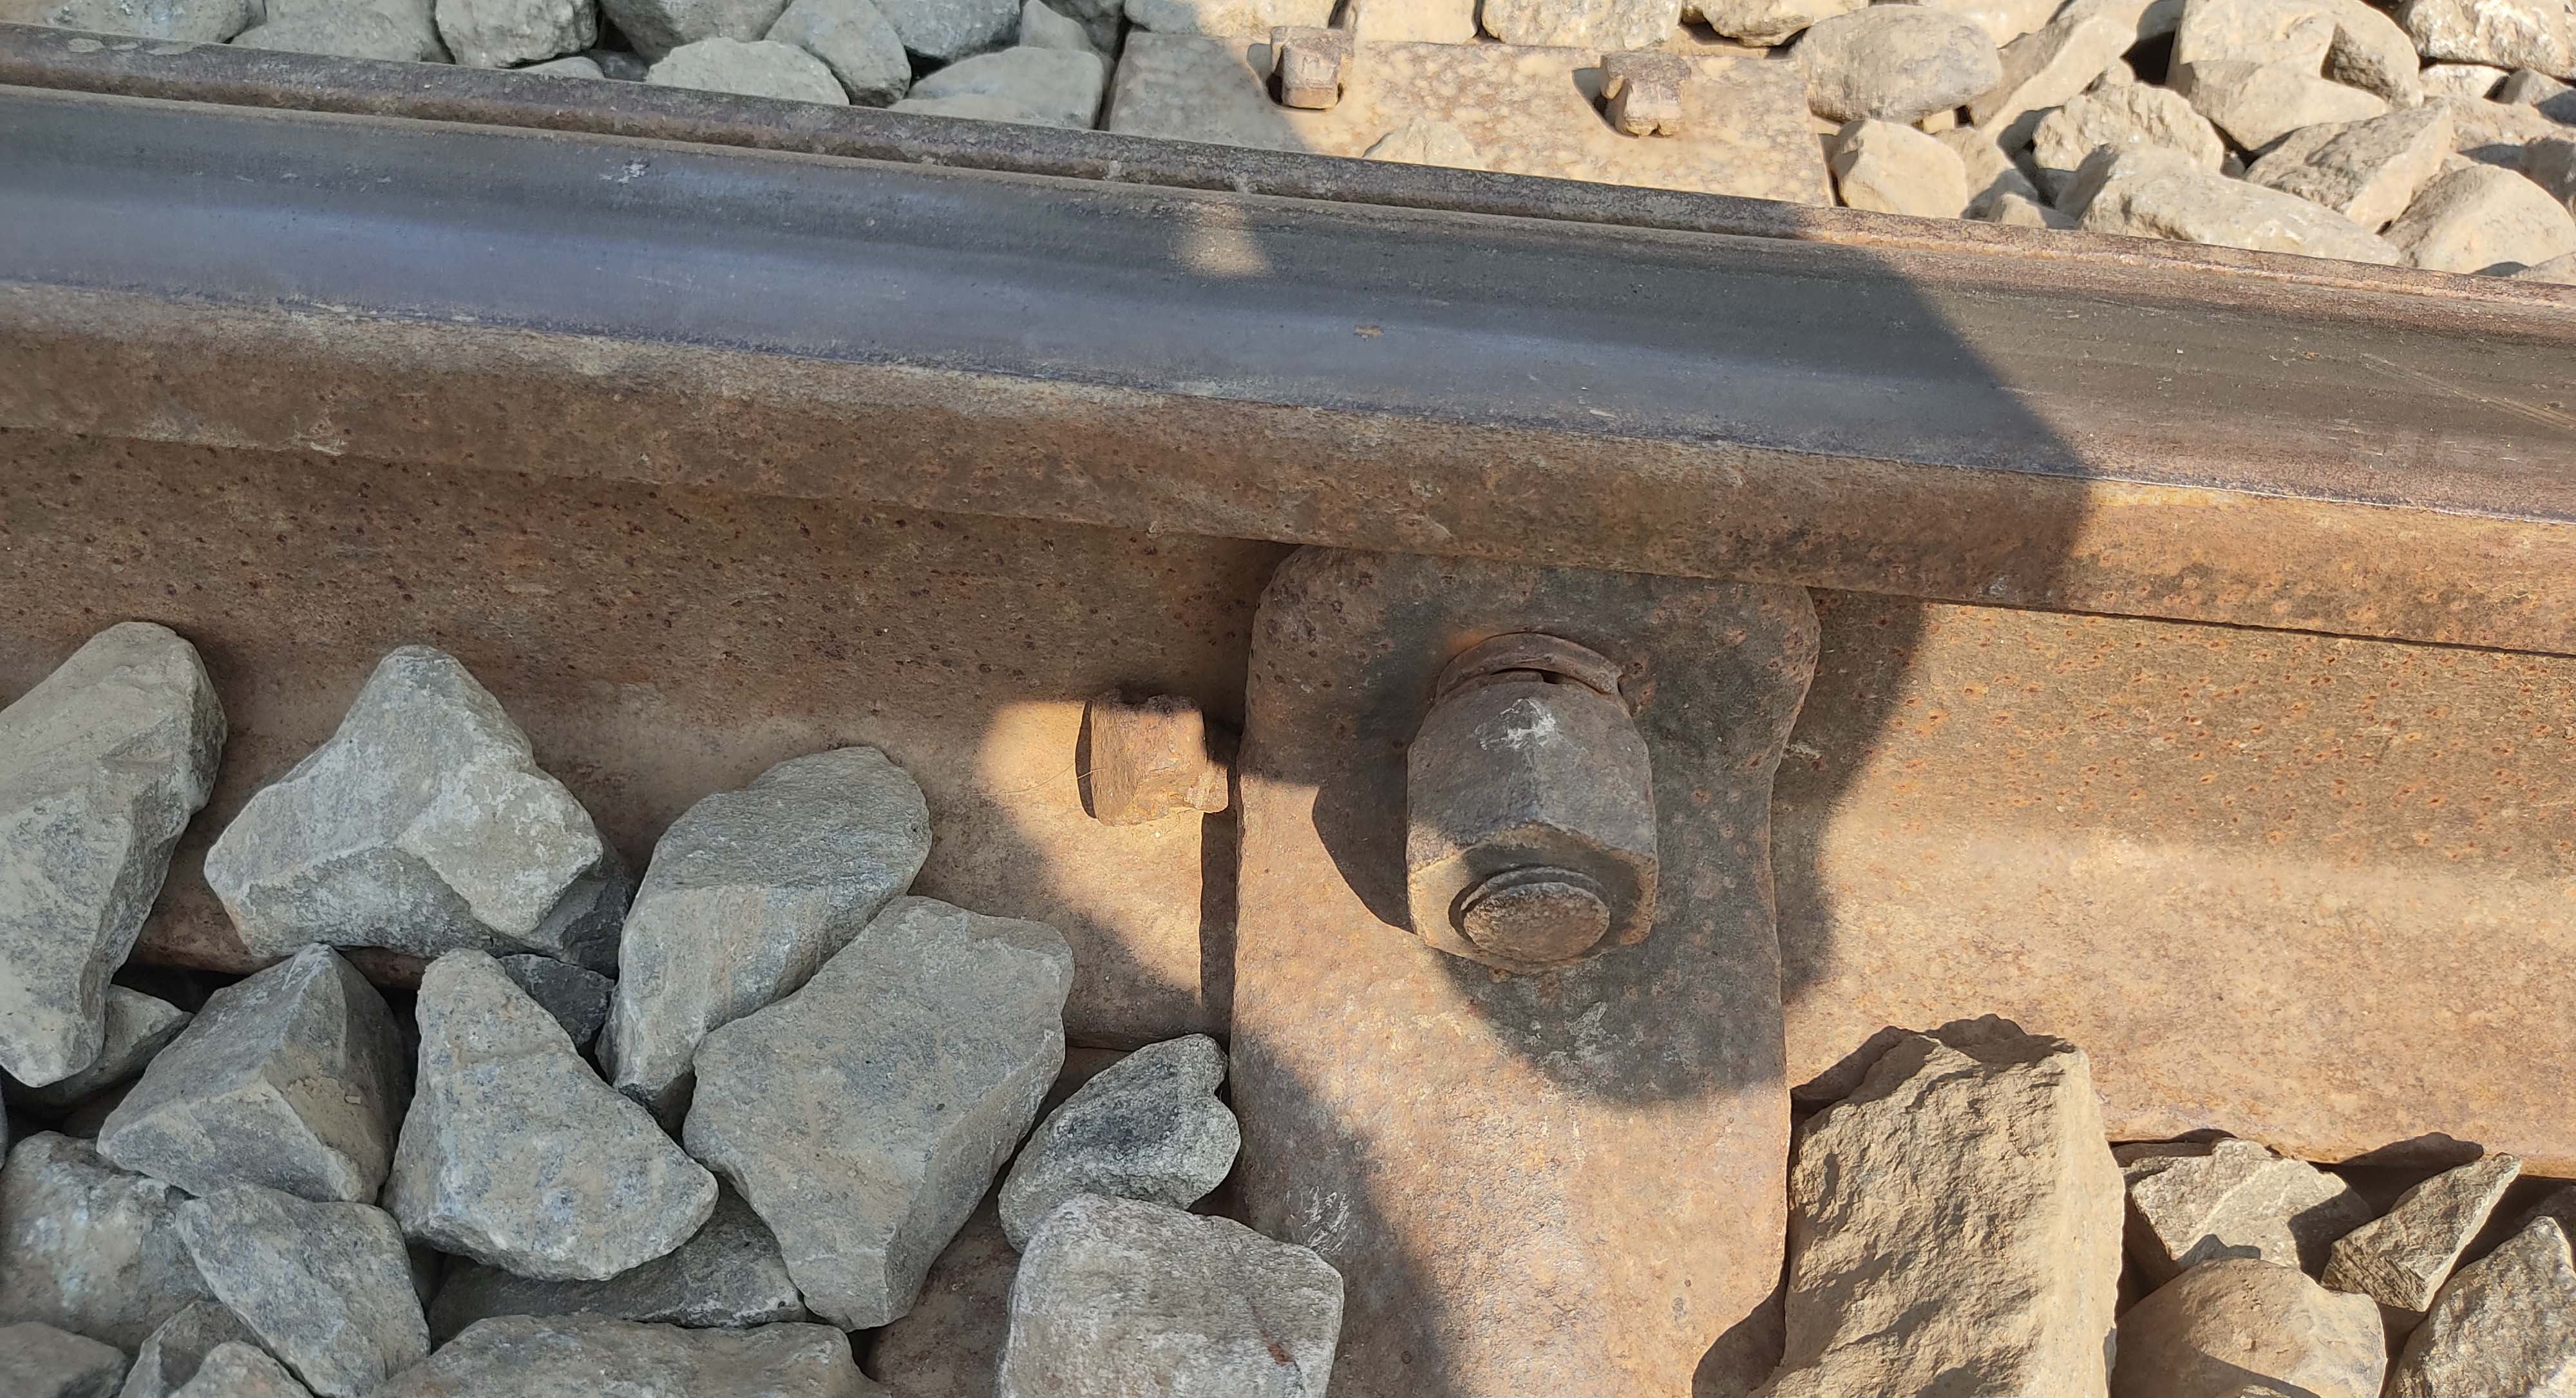error1: (1093, 592, 1731, 1030)
